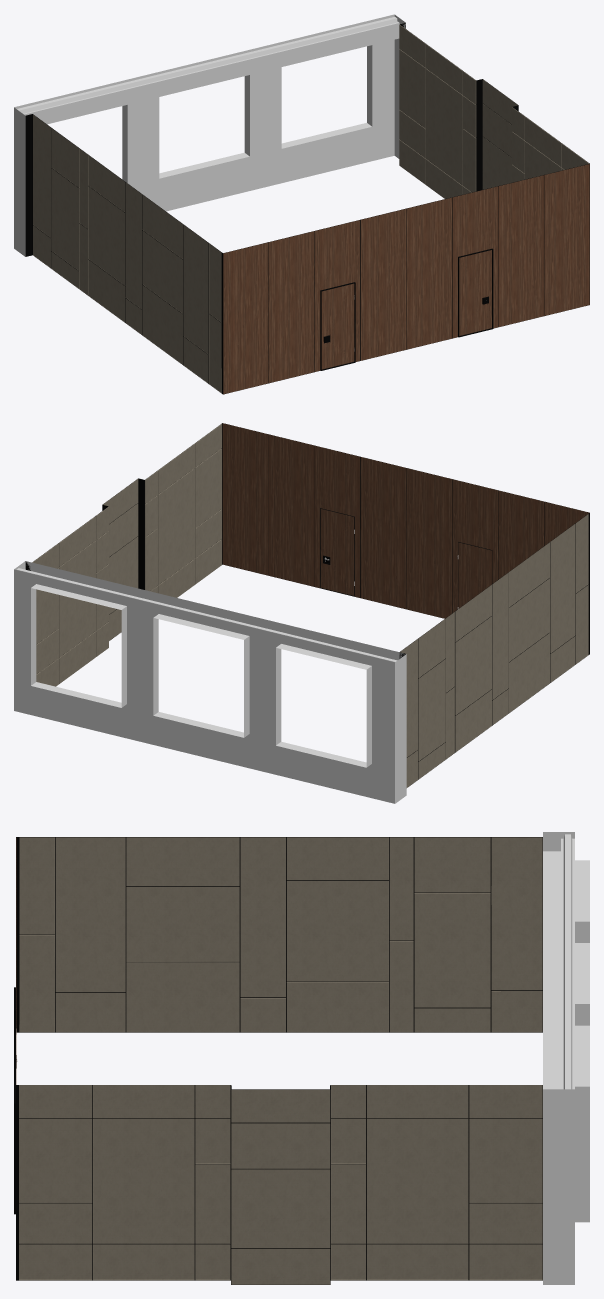
File: Wall.fbx
3 views of the same model, one above another, from view 1: azimuth 30°, elevation 25°; view 2: azimuth 150°, elevation 25°; view 3: azimuth 270°, elevation 25° (orthographic). The views are drawn at different scales.
Visible parts, largest first — view 1: Wall; view 2: Wall; view 3: Wall.
Boxes of the visible parts, <box> form: Wall: <box>14,14,589,394</box>; Wall: <box>14,423,589,803</box>; Wall: <box>14,832,589,1284</box>.
Bounding box in the file's own units: 1327 × 471 × 1256.
Materials: 6 (3 with a texture image).
